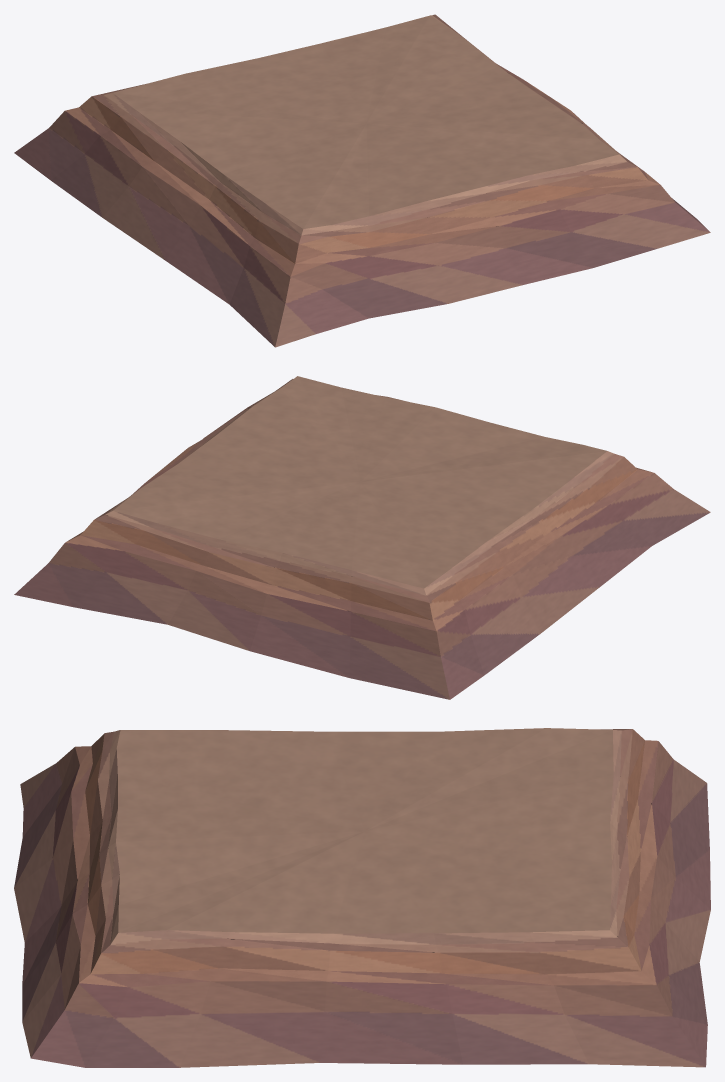
The model's file is Cinder_Square_Hillside.glb.
3 views of the same model, one above another, from view 1: azimuth 30°, elevation 25°; view 2: azimuth 150°, elevation 25°; view 3: azimuth 270°, elevation 25° (orthographic). The views are drawn at different scales.
Visible parts, largest first — view 1: Cinder_Square_Hillside; view 2: Cinder_Square_Hillside; view 3: Cinder_Square_Hillside.
Boxes of the visible parts, x1=… form: Cinder_Square_Hillside: x1=14, y1=14, x2=710, y2=347; Cinder_Square_Hillside: x1=14, y1=376, x2=710, y2=699; Cinder_Square_Hillside: x1=14, y1=728, x2=710, y2=1067.
Size of the model in its own units: 87.08 by 13.69 by 89.27.
1 material, 1 textured.
